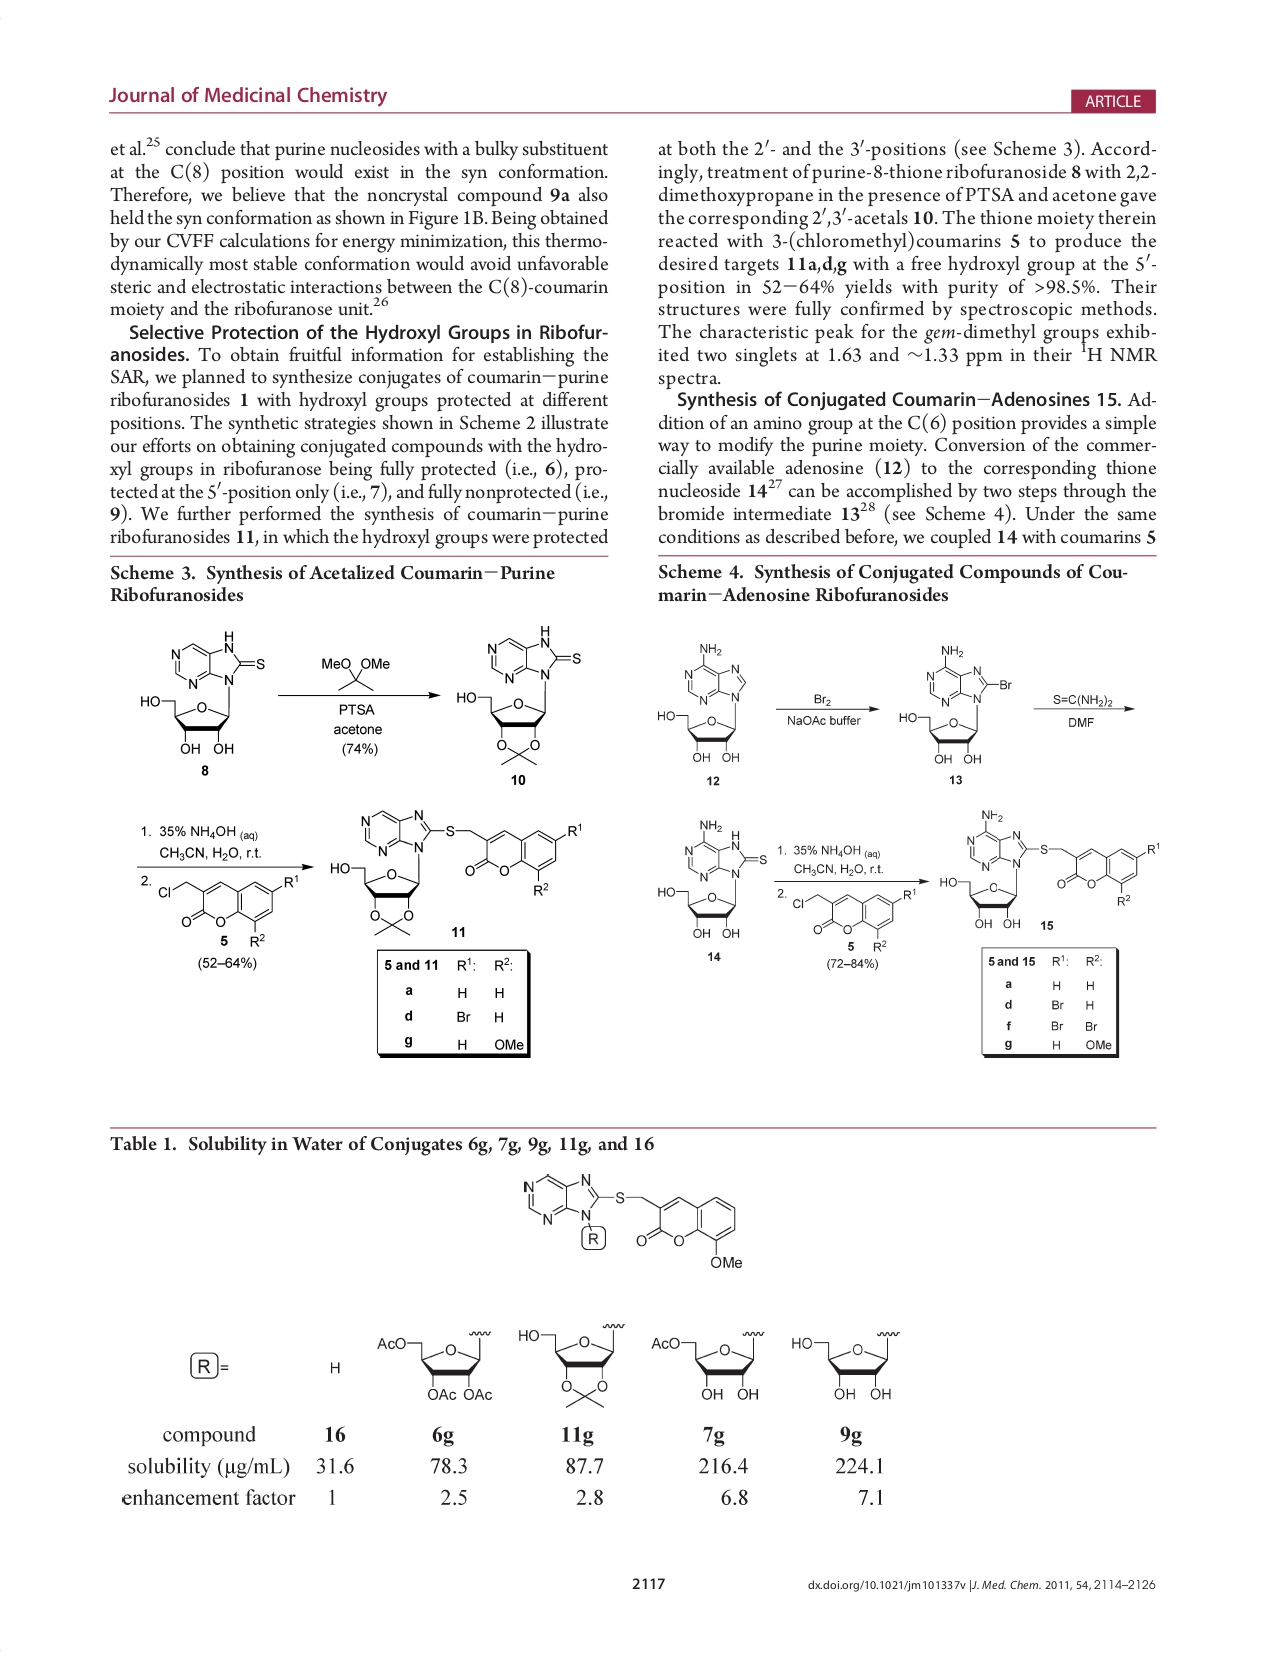exist_molecular: (324, 798, 586, 942), (938, 807, 1161, 934), (517, 1164, 750, 1273), (451, 620, 585, 771), (133, 628, 269, 761), (891, 632, 1016, 770), (654, 634, 765, 770), (656, 817, 773, 942), (157, 874, 303, 946), (513, 1319, 625, 1411), (372, 1327, 500, 1404), (789, 1326, 902, 1407), (648, 1329, 769, 1403), (789, 884, 918, 952), (316, 650, 399, 693)
